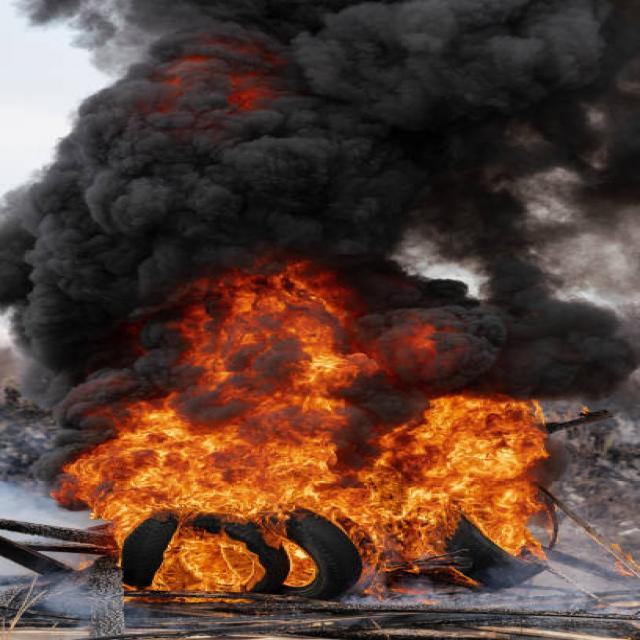Fire: (99, 303, 554, 586)
Smoke: (27, 0, 636, 370)
